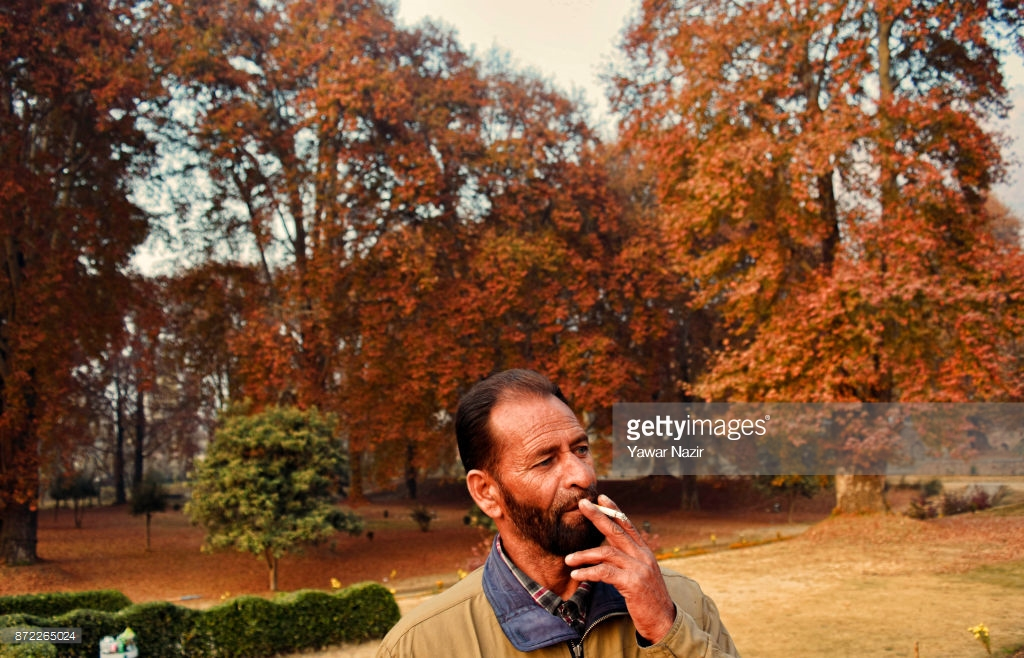cigarette: (580, 499, 630, 525)
